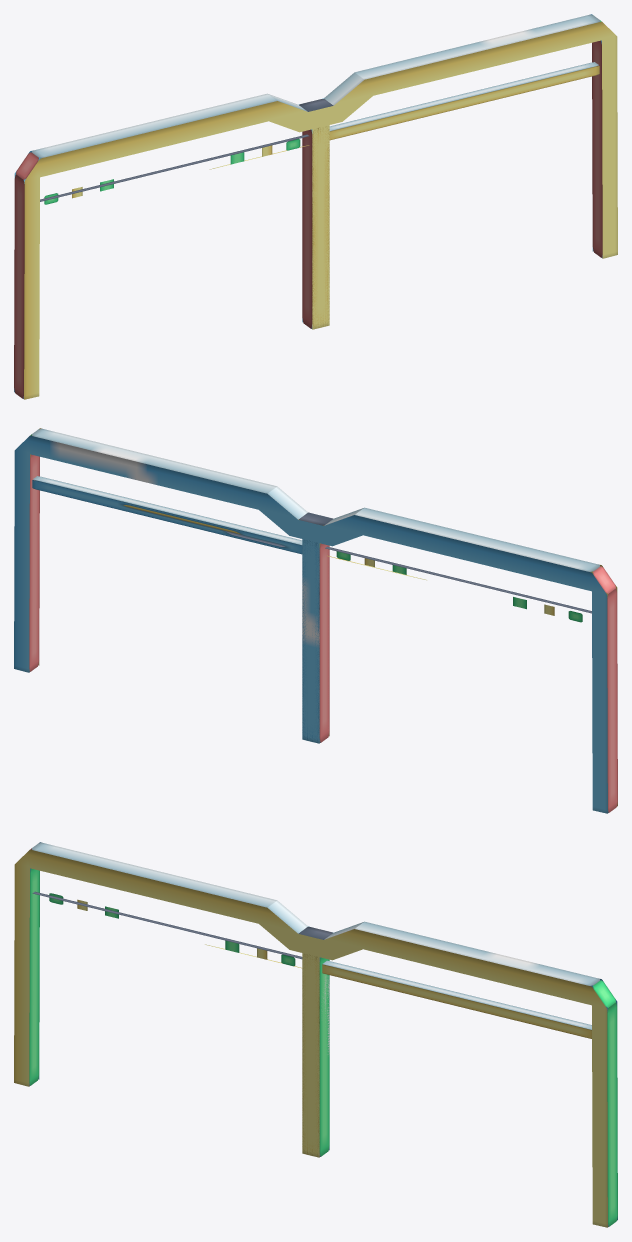
File: YellowMetalFence_BB.obj
3 views of the same model, one above another, from view 1: azimuth 30°, elevation 25°; view 2: azimuth 150°, elevation 25°; view 3: azimuth 330°, elevation 25° (orthographic).
Parts seen in each view (by area): view 1: cuboid; view 2: cuboid; view 3: cuboid.
Part boxes in pixels (bbox=[...]): cuboid: bbox=[14, 14, 617, 399]; cuboid: bbox=[14, 428, 617, 813]; cuboid: bbox=[14, 842, 617, 1227].
Bounding box in the file's own units: 0.8522 × 0.3258 × 0.025.
1 material, 1 textured.
